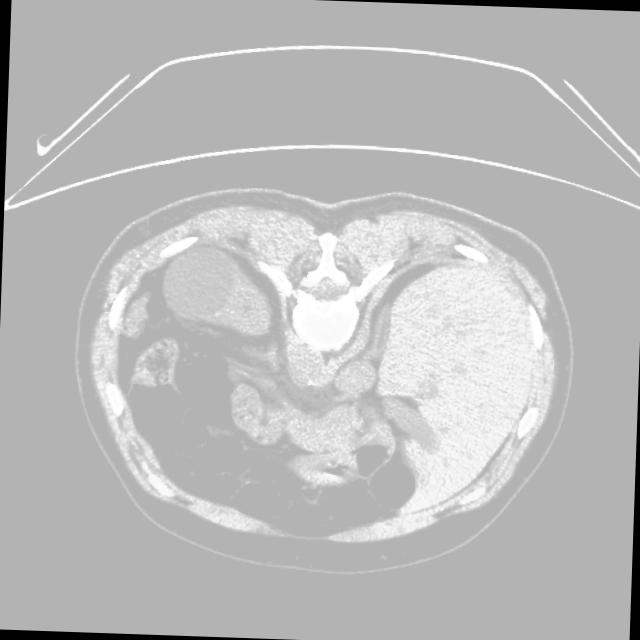cysts: (122, 295, 444, 511)
